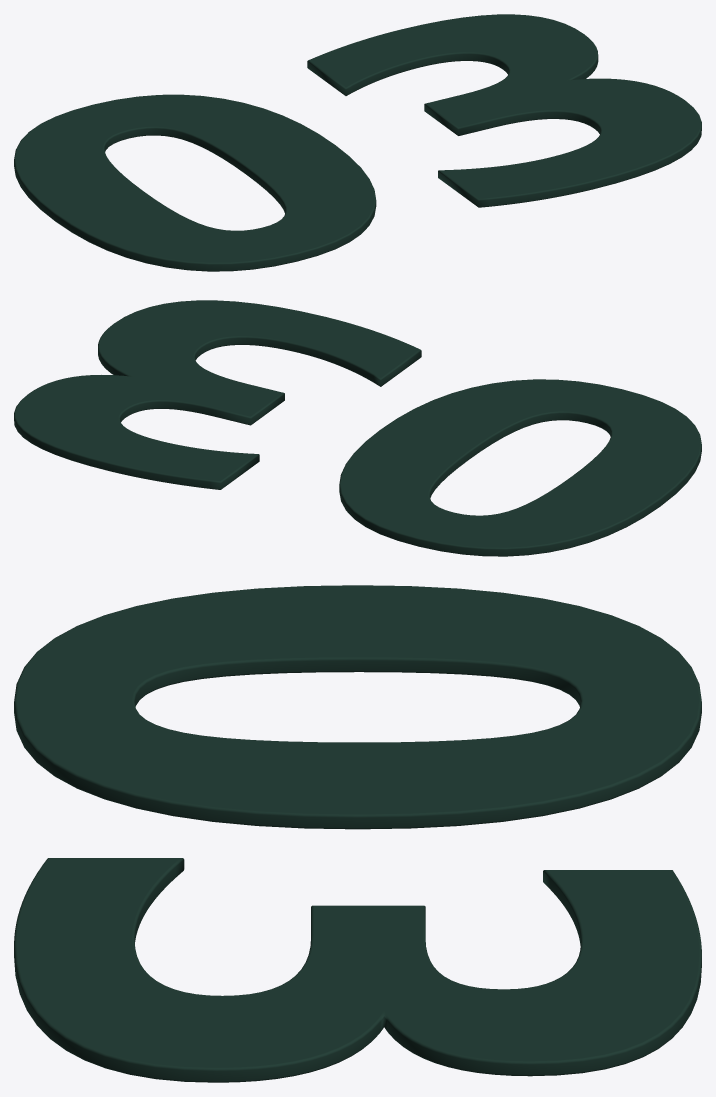
File: SM_EG_Lane_number_8c9517f92c.fbx
3 views of the same model, one above another, from view 1: azimuth 30°, elevation 25°; view 2: azimuth 150°, elevation 25°; view 3: azimuth 270°, elevation 25° (orthographic). The views are drawn at different scales.
Parts seen in each view (by area): view 1: SM_EG_Lane_number_8c9517f92c; view 2: SM_EG_Lane_number_8c9517f92c; view 3: SM_EG_Lane_number_8c9517f92c.
Part boxes in pixels (bbox=[...]): SM_EG_Lane_number_8c9517f92c: bbox=[14, 14, 701, 271]; SM_EG_Lane_number_8c9517f92c: bbox=[14, 300, 701, 556]; SM_EG_Lane_number_8c9517f92c: bbox=[14, 585, 701, 1082].
Bounding box in the file's own units: 31.14 × 18.69 × 0.44.
